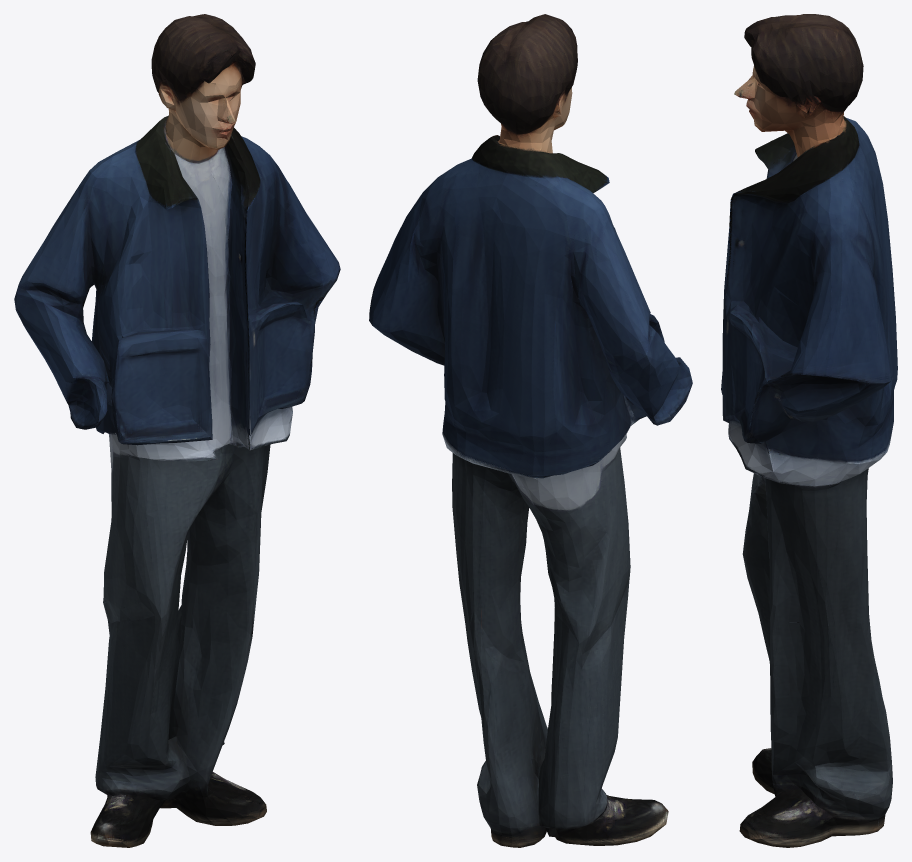
File: uniqlo-navy-sam3d.fbx
3 views of the same model, side by side, from view 1: azimuth 30°, elevation 25°; view 2: azimuth 150°, elevation 25°; view 3: azimuth 270°, elevation 25° (orthographic). The views are drawn at different scales.
Parts seen in each view (by area): view 1: world; view 2: world; view 3: world.
Part boxes in pixels (<box>): world: <box>14,14,340,847</box>; world: <box>369,14,692,847</box>; world: <box>721,14,897,847</box>.
Bounding box in the file's own units: 39.26 × 99.88 × 19.7.
